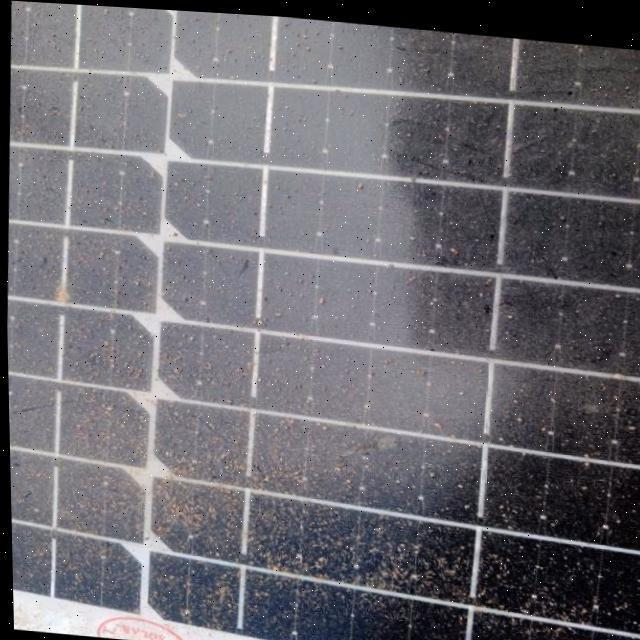Surface Contaminant: (19, 1, 640, 640)
